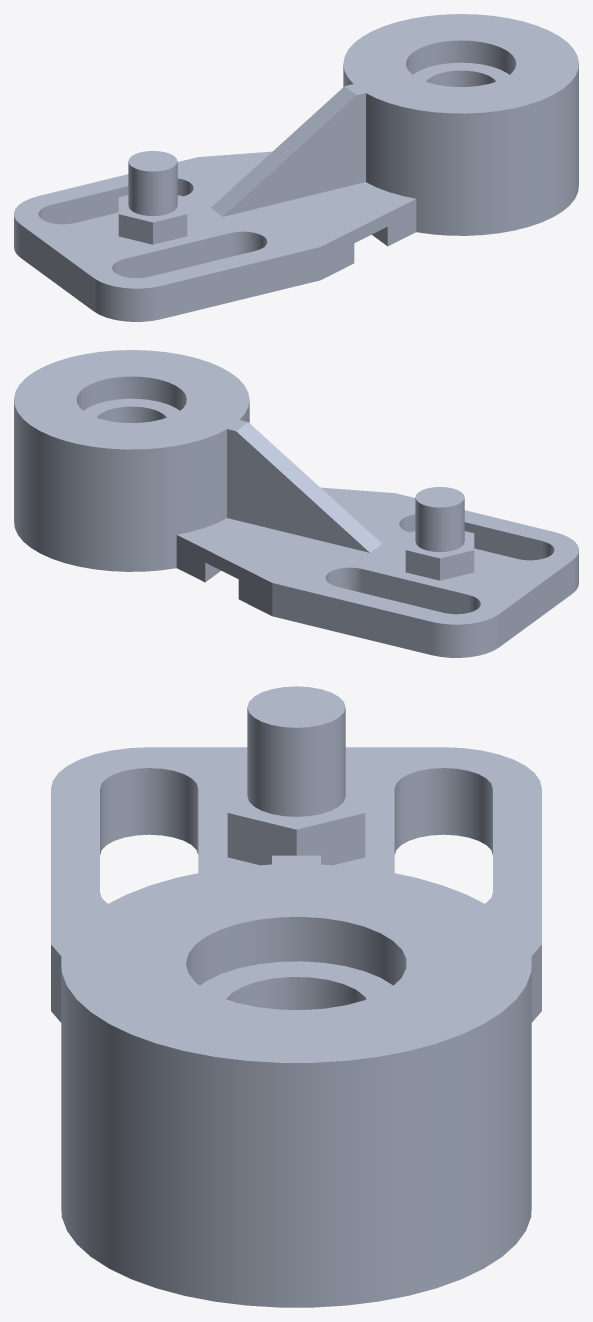
Rendered from VILIS_CASTING.gltf.
The picture shows the model from 3 angles, top to bottom: view 1: azimuth 30°, elevation 25°; view 2: azimuth 150°, elevation 25°; view 3: azimuth 270°, elevation 25°; orthographic projection. The views are drawn at different scales.
Parts seen in each view (by area): view 1: VILIS CASTING; view 2: VILIS CASTING; view 3: VILIS CASTING.
Boxes of the visible parts, x1=… form: VILIS CASTING: x1=14, y1=14, x2=578, y2=321; VILIS CASTING: x1=14, y1=350, x2=578, y2=657; VILIS CASTING: x1=51, y1=686, x2=541, y2=1307.
Size of the model in its own units: 0.1511 by 0.0349 by 0.0635.
